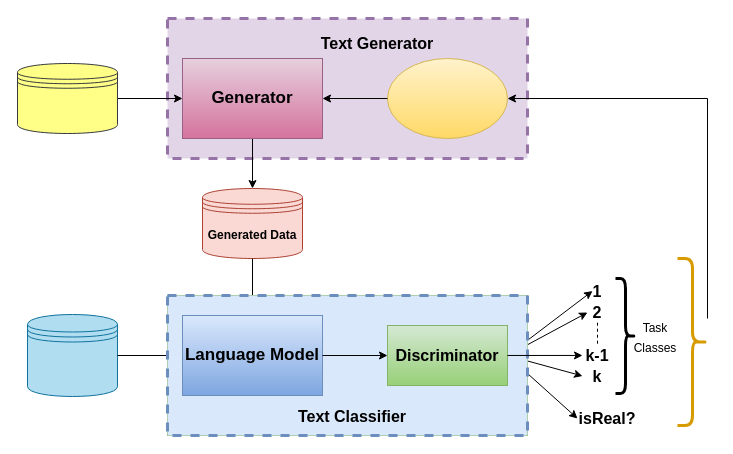
The diagram is 733 pixels wide and 454 high, and some of its shapes have lost their labels. Here are the shapes that lost their labels. From the top down, the centre of each, then its label:
At pixel 67 98: "Unlabeled Data".
At pixel 447 98: "Reward Approximator".
At pixel 72 355: "Labeled Data".
